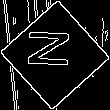N_E: (29, 34, 81, 76)
